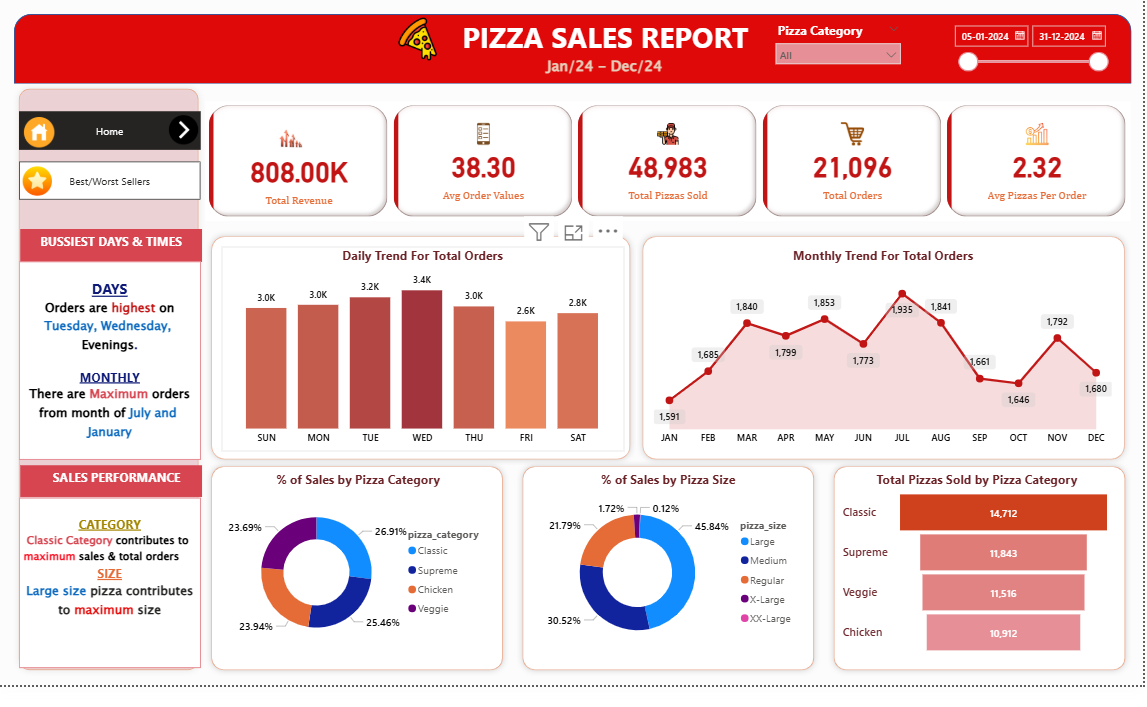

The dashboard page shown, as its layout file describes it:
{"tool":"powerbi","page":{"name":"Home","canvas":[1500,900],"ordinal":0},"visuals":[{"type":"cardVisual","fields":{"Data":["pizza_sales.Total Revenue","pizza_sales.Avg Order Values","pizza_sales.Total Pizzas Sold","pizza_sales.Total Orders","pizza_sales.Avg Pizzas Per Order"]},"box":[270.7,134.5,1213.8,156.9],"z":0},{"type":"shape","box":[19,19,1465.5,91.4],"z":1000},{"type":"textbox","box":[589.7,19,410.3,65.5],"z":2000},{"type":"textbox","box":[694.8,69,198.3,41.4],"z":3000},{"type":"image","box":[508.6,19,81,65.5],"z":4000},{"type":"shape","box":[270.7,303.4,565.5,308.6],"z":5000},{"type":"columnChart","title":"Daily Trend For Total Orders","fields":{"Category":["pizza_sales.Order Day"],"Y":["pizza_sales.Total Orders"]},"box":[291.4,324.1,527.6,269],"z":6000},{"type":"shape","box":[836.2,303.4,648.3,308.6],"z":7000},{"type":"areaChart","title":"Monthly Trend For Total Orders","fields":{"Y":["pizza_sales.Total Orders"],"Category":["pizza_sales.Order Month"]},"box":[853.4,324.1,610.3,269],"z":8000},{"type":"shape","box":[270,605,398.3,283.3],"z":9000},{"type":"shape","box":[678.3,605,398.3,283.3],"z":10000},{"type":"shape","box":[1086.7,605,398.3,283.3],"z":11000},{"type":"donutChart","title":"% of Sales by Pizza Category","fields":{"Category":["pizza_sales.pizza_category"],"Y":["pizza_sales.Total Revenue"]},"box":[291.7,618.3,358.3,246.7],"z":12000},{"type":"donutChart","title":"% of Sales by Pizza Size","fields":{"Y":["pizza_sales.Total Revenue"],"Category":["pizza_sales.pizza_size"]},"box":[698.3,618.3,358.3,246.7],"z":13000},{"type":"funnel","title":"Total Pizzas Sold by Pizza Category","fields":{"Category":["pizza_sales.pizza_category"],"Y":["pizza_sales.Total Pizzas Sold"]},"box":[1101.7,618.3,361.7,246.7],"z":14000},{"type":"shape","box":[18.3,110,251.7,778.3],"z":15000},{"type":"textbox","box":[28.3,301.7,238.3,43.3],"z":16000},{"type":"textbox","box":[26.7,345,238.3,260],"z":17000},{"type":"textbox","box":[28.3,611.7,238.3,41.7],"z":18000},{"type":"textbox","box":[26.7,653.3,238.3,223.3],"z":19000},{"type":"slicer","fields":{"Values":["pizza_sales.pizza_category"]},"box":[1008.6,24.1,184.5,87.9],"z":20000},{"type":"slicer","fields":{"Values":["pizza_sales.order_date"]},"box":[1241.4,24.1,222.4,87.9],"z":21000},{"type":"pageNavigator","box":[26.7,148.3,238.3,50],"z":22000},{"type":"pageNavigator","box":[26.7,213.3,238.3,50],"z":23000},{"type":"image","box":[218.3,148.3,48.3,48.3],"z":24000},{"type":"image","box":[28.3,148.3,50,55],"z":25000},{"type":"image","box":[26.7,215,48.3,48.3],"z":26000}]}

Visuals, with their boxes in screenshot pixels (x1, y1, x2, y2), scaled from the page's 1500x900 canvas onto the 1147x707 screenshot:
cardVisual - pizza_sales.Total Revenue x pizza_sales.Avg Order Values: (left=207, top=106, right=1135, bottom=229)
shape: (left=15, top=15, right=1135, bottom=87)
textbox: (left=451, top=15, right=765, bottom=66)
textbox: (left=531, top=54, right=683, bottom=87)
image: (left=389, top=15, right=451, bottom=66)
shape: (left=207, top=238, right=639, bottom=481)
"Daily Trend For Total Orders" columnChart: (left=223, top=255, right=626, bottom=466)
shape: (left=639, top=238, right=1135, bottom=481)
"Monthly Trend For Total Orders" areaChart: (left=653, top=255, right=1119, bottom=466)
shape: (left=206, top=475, right=511, bottom=698)
shape: (left=519, top=475, right=823, bottom=698)
shape: (left=831, top=475, right=1136, bottom=698)
"% of Sales by Pizza Category" donutChart: (left=223, top=486, right=497, bottom=680)
"% of Sales by Pizza Size" donutChart: (left=534, top=486, right=808, bottom=680)
"Total Pizzas Sold by Pizza Category" funnel: (left=842, top=486, right=1119, bottom=680)
shape: (left=14, top=86, right=206, bottom=698)
textbox: (left=22, top=237, right=204, bottom=271)
textbox: (left=20, top=271, right=203, bottom=475)
textbox: (left=22, top=481, right=204, bottom=513)
textbox: (left=20, top=513, right=203, bottom=689)
slicer - pizza_sales.pizza_category: (left=771, top=19, right=912, bottom=88)
slicer - pizza_sales.order_date: (left=949, top=19, right=1119, bottom=88)
pageNavigator: (left=20, top=116, right=203, bottom=156)
pageNavigator: (left=20, top=168, right=203, bottom=207)
image: (left=167, top=116, right=204, bottom=154)
image: (left=22, top=116, right=60, bottom=160)
image: (left=20, top=169, right=57, bottom=207)
